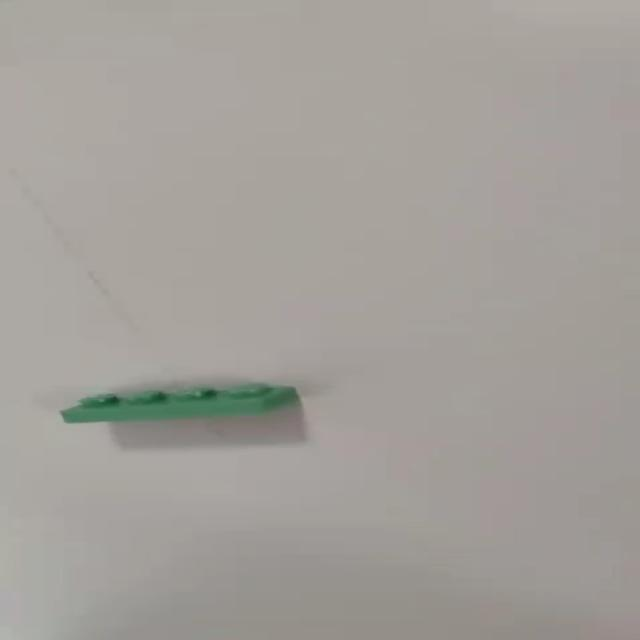C4x1x0: (57, 380, 308, 430)
